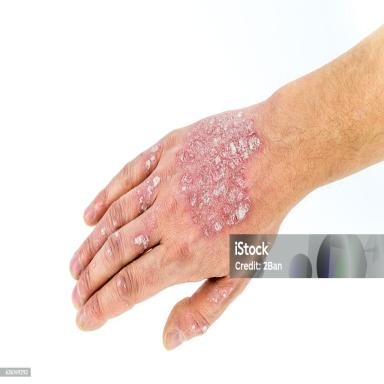Psoriasis: (177, 111, 263, 236), (131, 204, 160, 252), (94, 214, 120, 252), (137, 176, 161, 214), (143, 144, 161, 177), (205, 284, 234, 303), (185, 319, 210, 337), (116, 275, 127, 296), (105, 244, 113, 258), (113, 229, 121, 238), (92, 261, 96, 268), (123, 301, 128, 306)
